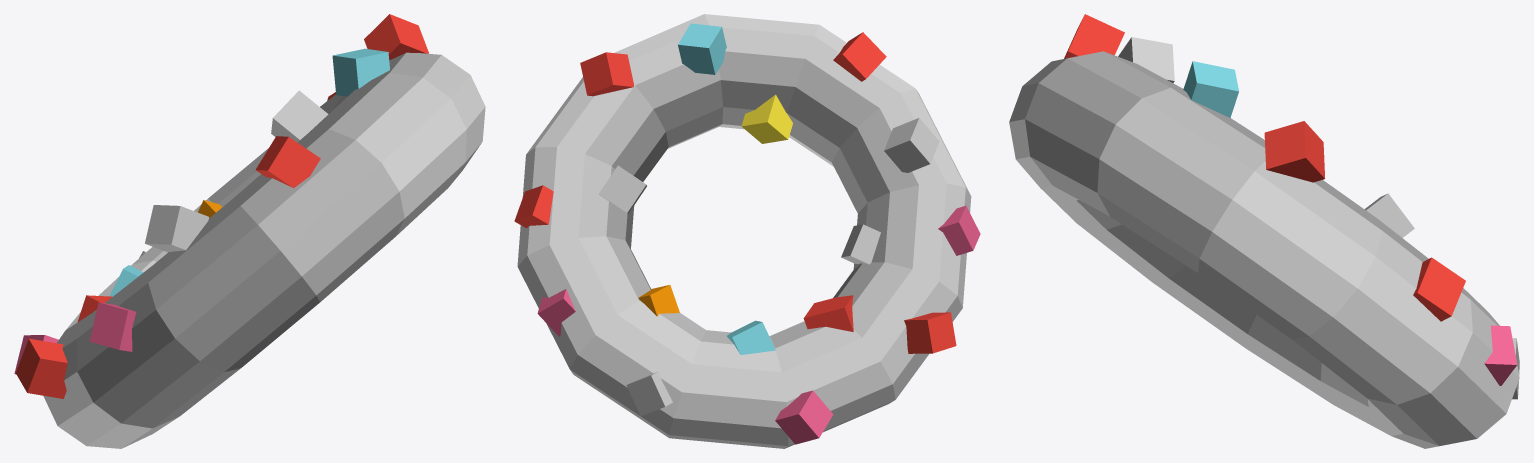
The model's file is Basic.obj.
The picture shows the model from 3 angles, left to right: view 1: azimuth 30°, elevation 25°; view 2: azimuth 150°, elevation 25°; view 3: azimuth 270°, elevation 25°; orthographic projection. The views are drawn at different scales.
Parts seen in each view (by area): view 1: group1050364659, group1566162071, group434486728, group1366935093, group596294833, group1210618188; view 2: group1050364659, group434486728, group1799019135, group1366935093, group1566162071, group665860333, group1210618188, group596294833, group439363668, group1576844588, group1774233308, group289079814 (+2 smaller); view 3: group1050364659, group1366935093, group434486728, group1576844588, group1175741122, group1210618188.
Part boxes in pixels (x1,y1,x2,y2): group1050364659: (43,52,485,448); group1566162071: (16,338,67,398); group434486728: (332,48,389,96); group1366935093: (364,14,428,60); group596294833: (89,302,136,351); group1210618188: (271,90,328,142); group1050364659: (517,14,971,448); group434486728: (678,23,726,74); group1799019135: (775,390,833,444); group1366935093: (580,52,633,96); group1566162071: (904,312,956,353); group665860333: (803,295,853,331); group1210618188: (599,165,646,214); group596294833: (938,205,980,255); group439363668: (626,371,672,415); group1576844588: (514,185,553,228); group1774233308: (841,224,880,264); group289079814: (727,320,775,354); group1050364659: (1009,14,1519,448); group1366935093: (1264,121,1324,182); group434486728: (1183,61,1238,117); group1576844588: (1413,257,1465,321); group1175741122: (1484,325,1517,385); group1210618188: (1364,193,1414,237).
Size of the model in its own units: 0.2354 by 0.1904 by 0.2061.
